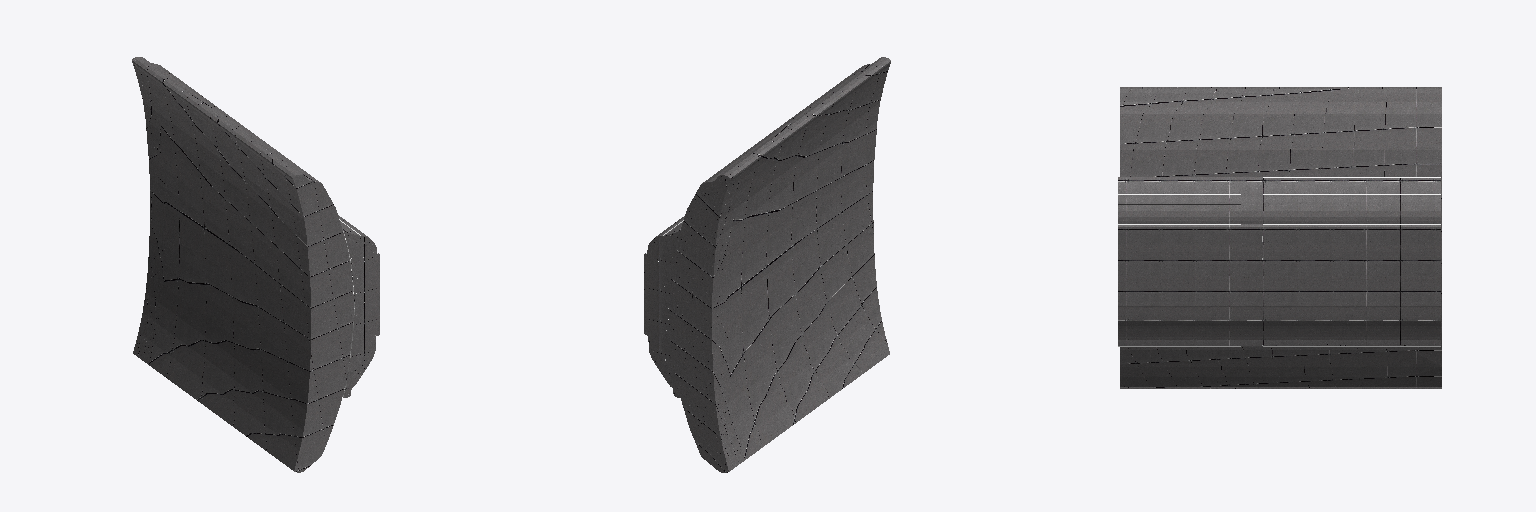
3 renders of one model, left to right at view 1: azimuth 30°, elevation 25°; view 2: azimuth 150°, elevation 25°; view 3: azimuth 270°, elevation 25°, orthographic.
Parts seen in each view (by area): view 1: CapsuleLeftWall; view 2: CapsuleLeftWall; view 3: CapsuleLeftWall.
Boxes of the visible parts, box(x1,y1,x2,y2) form: CapsuleLeftWall: box(132, 57, 379, 472); CapsuleLeftWall: box(644, 57, 890, 472); CapsuleLeftWall: box(1118, 87, 1441, 388).
Size of the model in its own units: 2.92 by 9.61 by 9.46.
2 materials, 1 textured.